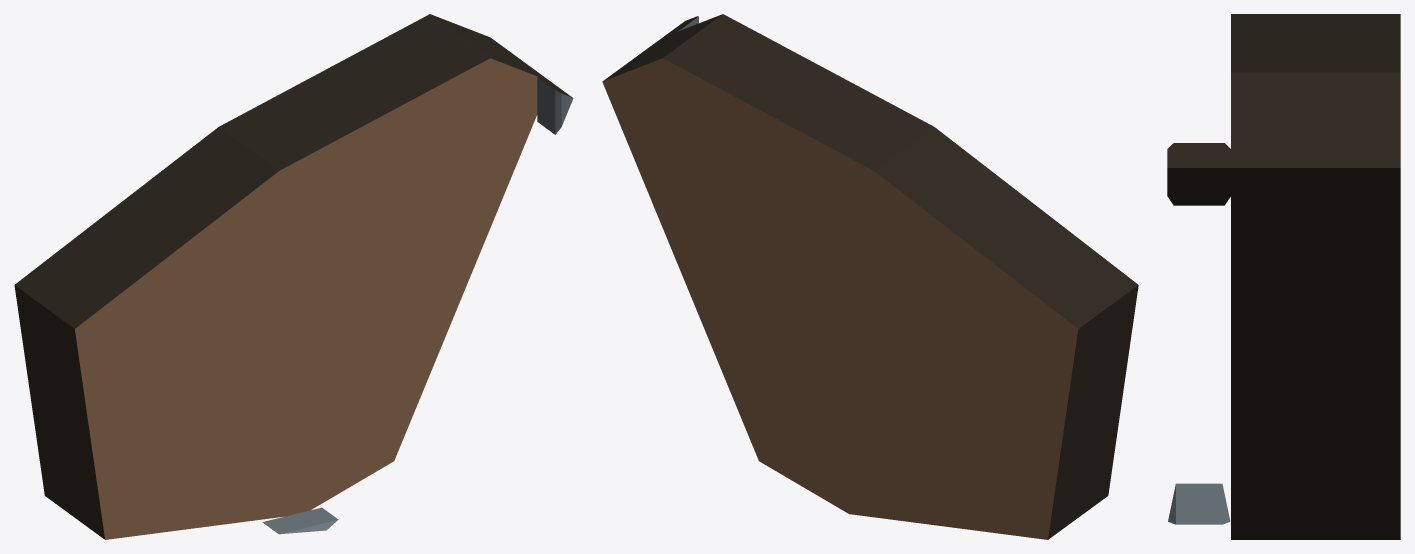
File: SM_DoorShard_03_33.fbx
3 renders of one model, left to right at view 1: azimuth 30°, elevation 25°; view 2: azimuth 150°, elevation 25°; view 3: azimuth 270°, elevation 25°, orthographic. The views are drawn at different scales.
Parts seen in each view (by area): view 1: SM_DoorShard_03_33; view 2: SM_DoorShard_03_33; view 3: SM_DoorShard_03_33.
Boxes of the visible parts, x1,y1,x2,y2 form: SM_DoorShard_03_33: (14,14,573,539); SM_DoorShard_03_33: (602,14,1138,539); SM_DoorShard_03_33: (1167,14,1400,539).
Bounding box in the file's own units: 72.85 × 22 × 60.02.
